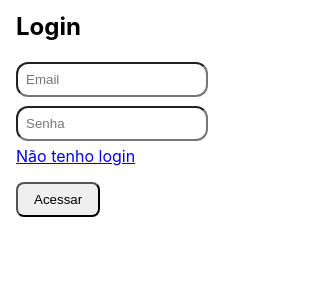
Test case: deve mostrar acesso negado com credenciais inválidas
Type "errado@email.com" into the field with placeholder "Email" at (112, 79), box top-left (16, 62), bottom-right (208, 97)
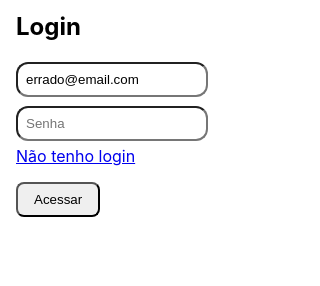
Type "000" into the field with placeholder "Senha" at (112, 124), box top-left (16, 106), bottom-right (208, 141)
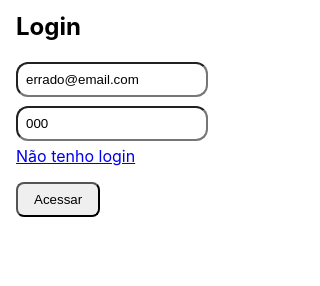
Click the button "Acessar" at (58, 200), box top-left (16, 182), bottom-right (100, 217)
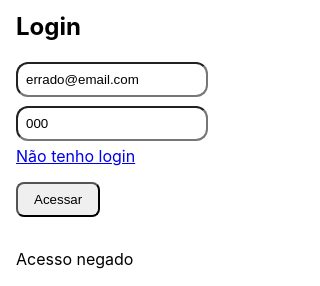
Result: the text "Acesso negado" is shown at top-left (16, 249), bottom-right (134, 269)
